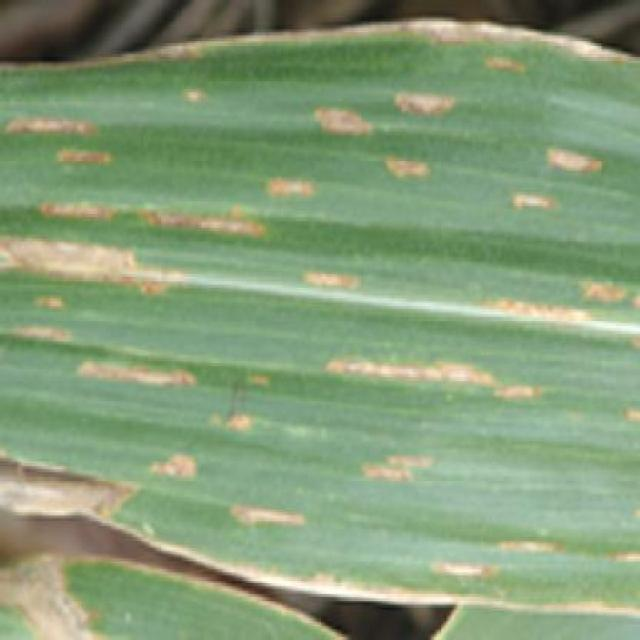Corn_Grey_Leaf_Spot: (0, 20, 640, 597)
